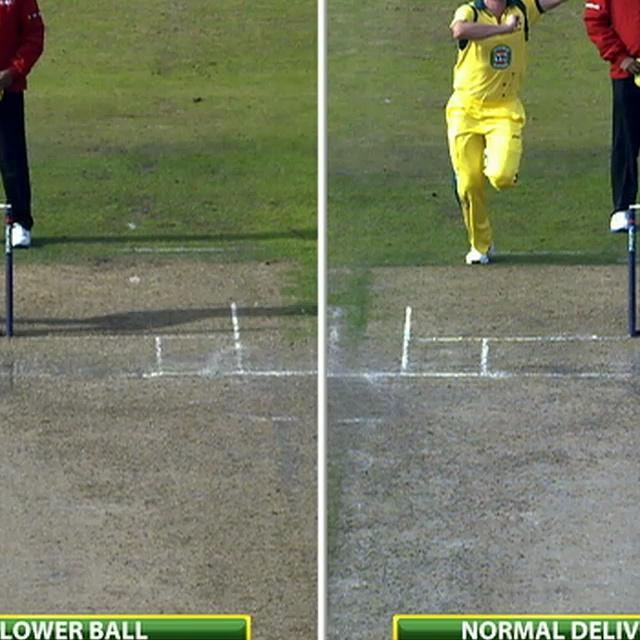umpire: (574, 0, 640, 235), (0, 0, 56, 251)
